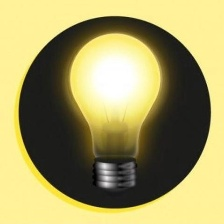light_bulb: (63, 30, 163, 200)
